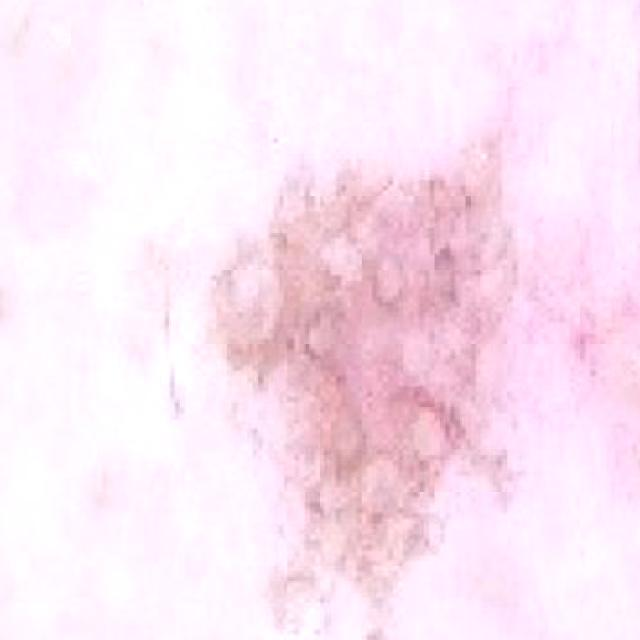BKL: (69, 0, 636, 625)
